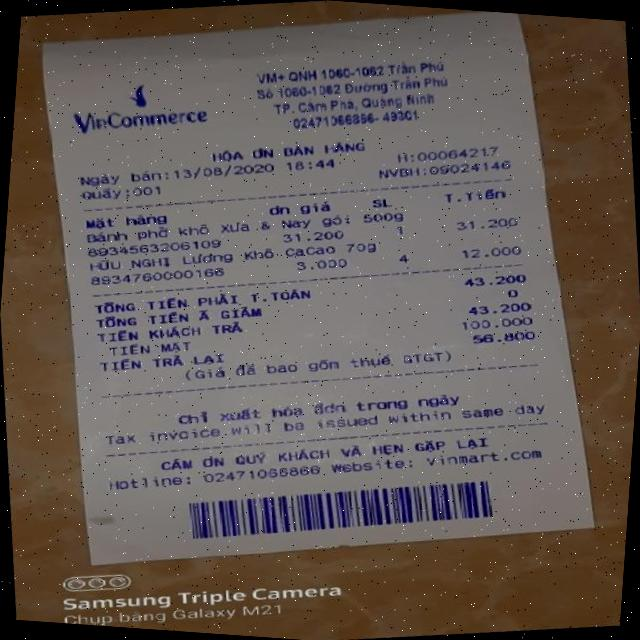Date: (171, 152, 280, 185)
Store_Name: (63, 91, 217, 146)
amount_number: (458, 264, 530, 293)
label_total: (88, 269, 317, 326)
